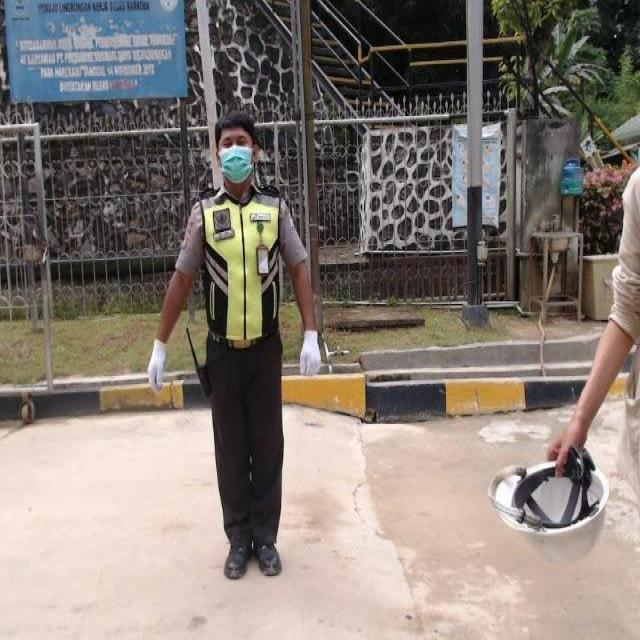helmet: (485, 449, 617, 561)
